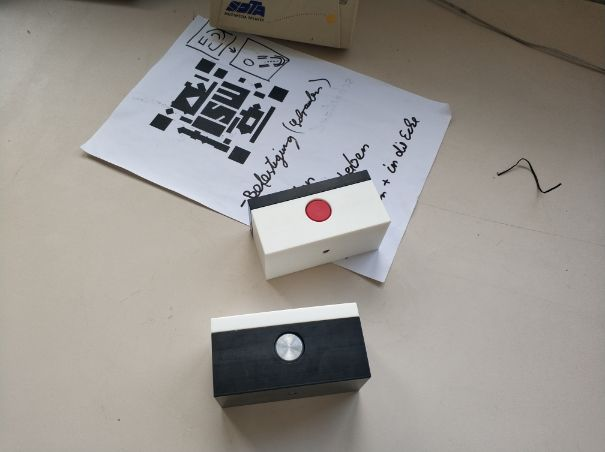black+white+red: (247, 168, 394, 281)
white+black+silver: (208, 301, 375, 410)
